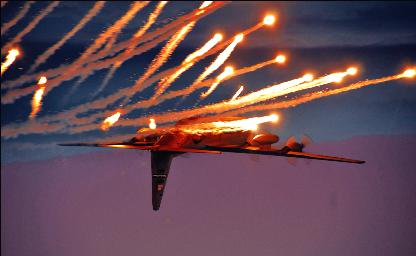Be200: (55, 114, 364, 208)
